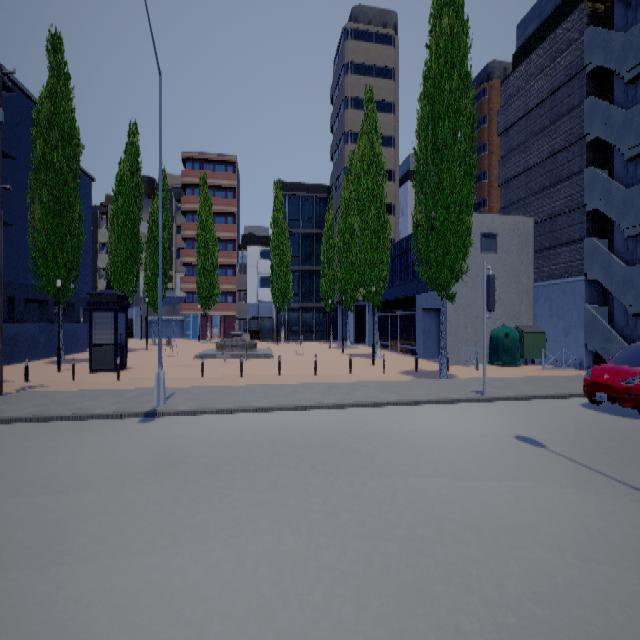vehicle: (582, 340, 639, 413)
